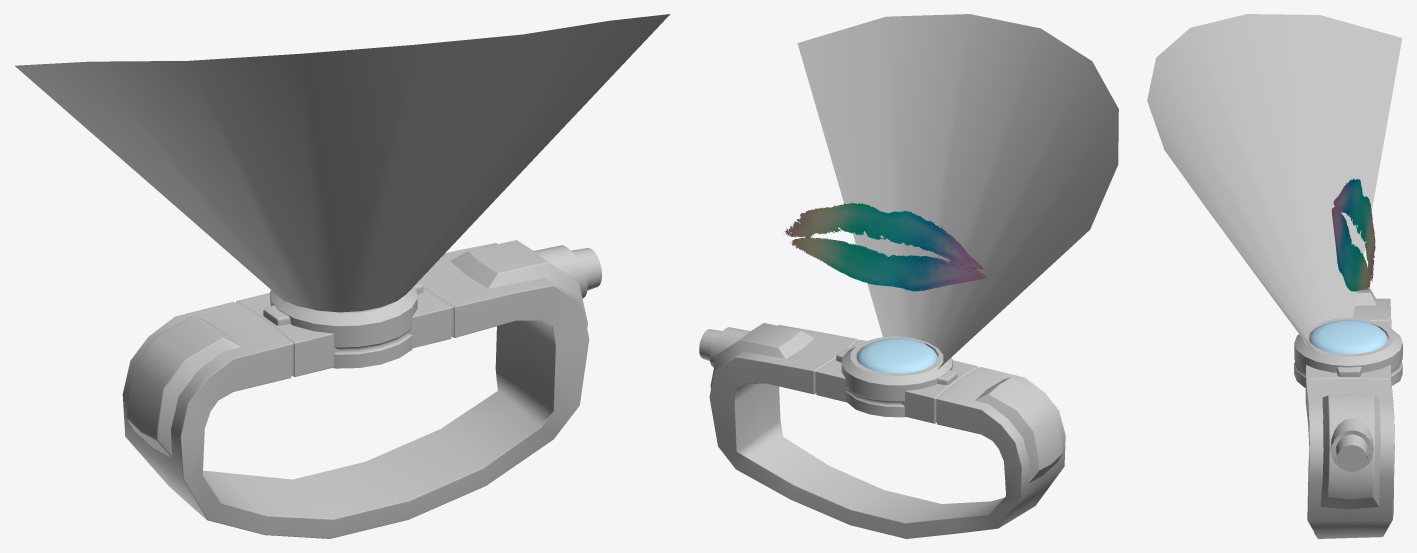
File: KissGun.fbx
3 views of the same model, side by side, from view 1: azimuth 30°, elevation 25°; view 2: azimuth 150°, elevation 25°; view 3: azimuth 270°, elevation 25° (orthographic). The views are drawn at different scales.
Visible parts, largest first — view 1: polySurface168, pCube5, polySurface172; view 2: polySurface168, pCube5, polySurface170, polySurface169, polySurface172, Emitter; view 3: polySurface168, pCube5, polySurface172, Emitter, polySurface170, polySurface169.
Part boxes in pixels (x1=…): polySurface168: x1=15, y1=14, x2=669, y2=312; pCube5: x1=122, y1=240, x2=601, y2=538; polySurface172: x1=270, y1=286, x2=417, y2=368; polySurface168: x1=797, y1=14, x2=1118, y2=369; pCube5: x1=699, y1=323, x2=1065, y2=538; polySurface170: x1=790, y1=237, x2=986, y2=291; polySurface169: x1=784, y1=202, x2=983, y2=269; polySurface172: x1=841, y1=336, x2=952, y2=417; Emitter: x1=857, y1=338, x2=937, y2=373; polySurface168: x1=1147, y1=14, x2=1402, y2=351; pCube5: x1=1305, y1=288, x2=1394, y2=538; polySurface172: x1=1294, y1=318, x2=1402, y2=387; Emitter: x1=1309, y1=320, x2=1387, y2=354; polySurface170: x1=1331, y1=206, x2=1370, y2=291; polySurface169: x1=1333, y1=178, x2=1375, y2=281.
Bounding box in the file's own units: 1.95 × 1.99 × 1.09.
